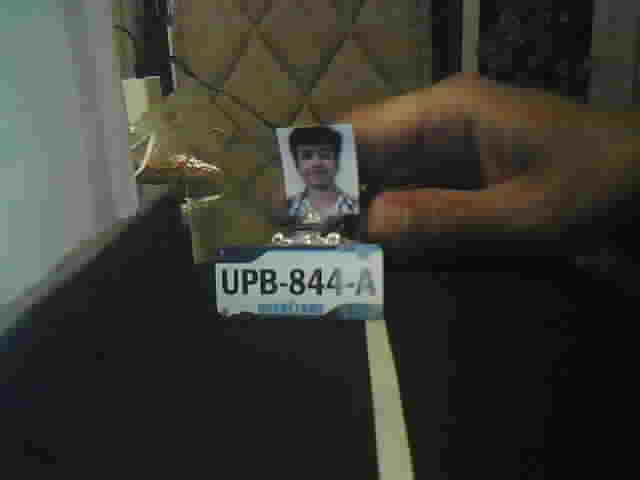PLACA: (211, 243, 385, 321)
ROSTRO: (288, 129, 360, 215)
